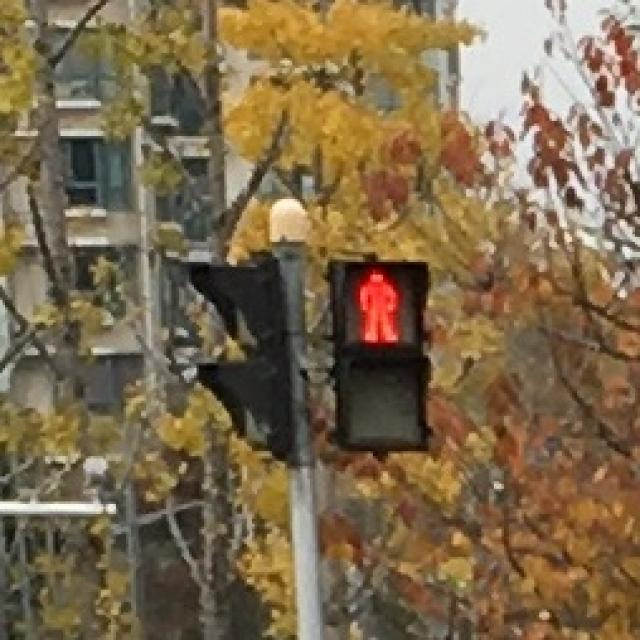red-crossing: (338, 262, 420, 345)
